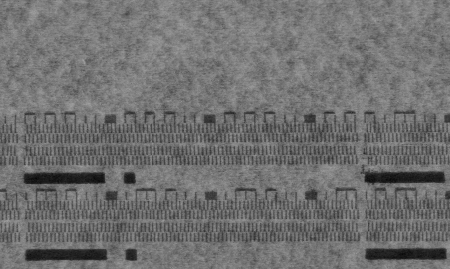Oblique printing: (360, 121, 387, 166), (2, 146, 16, 170)
